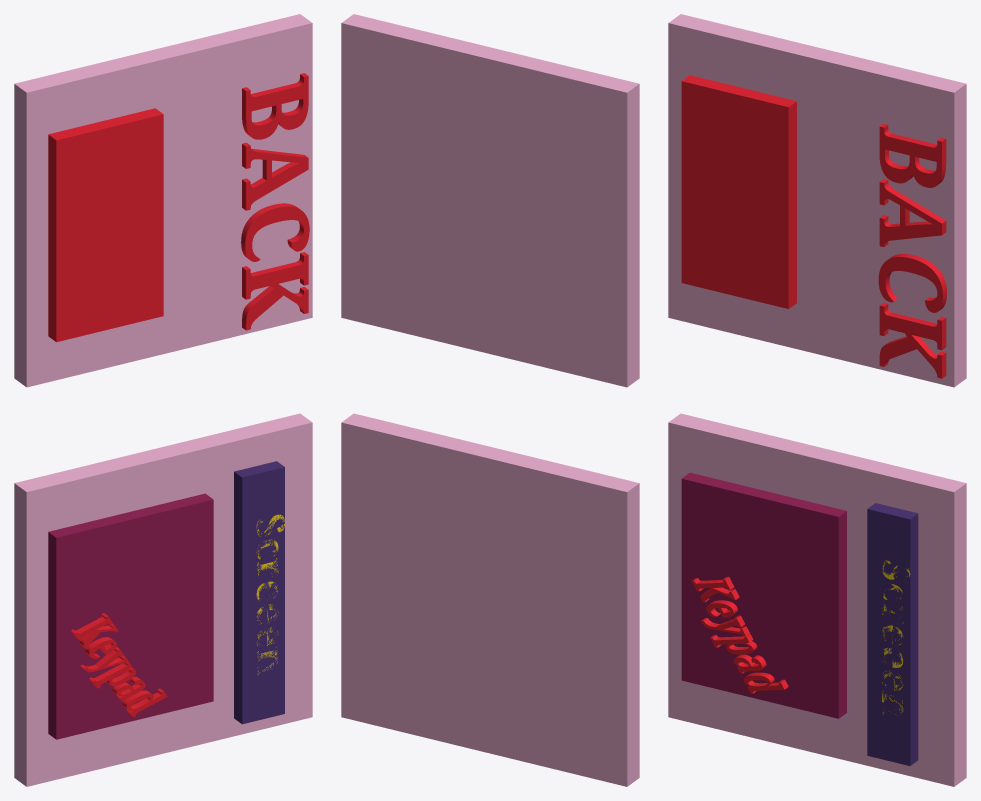
File: tinker.obj
3 renders of one model, left to right at view 1: azimuth 30°, elevation 25°; view 2: azimuth 150°, elevation 25°; view 3: azimuth 330°, elevation 25°, orthographic.
Parts seen in each view (by area): view 1: obj_2, obj_1, obj_3, obj_5, obj_0, obj_6, obj_7, obj_4; view 2: obj_1, obj_2; view 3: obj_2, obj_1, obj_3, obj_5, obj_0, obj_6, obj_7, obj_4.
Boxes of the visible parts, left/top/right/bottom form: obj_2: left=14, top=14, right=312, bottom=387; obj_1: left=14, top=413, right=312, bottom=786; obj_3: left=48, top=493, right=213, bottom=739; obj_5: left=48, top=108, right=163, bottom=342; obj_0: left=234, top=461, right=284, bottom=724; obj_6: left=241, top=73, right=309, bottom=330; obj_7: left=71, top=613, right=167, bottom=717; obj_4: left=256, top=514, right=284, bottom=675; obj_1: left=341, top=413, right=639, bottom=786; obj_2: left=341, top=14, right=639, bottom=387; obj_2: left=668, top=14, right=966, bottom=387; obj_1: left=668, top=413, right=966, bottom=786; obj_3: left=681, top=472, right=846, bottom=718; obj_5: left=681, top=75, right=796, bottom=308; obj_0: left=867, top=503, right=918, bottom=765; obj_6: left=878, top=123, right=946, bottom=378; obj_7: left=692, top=576, right=788, bottom=693; obj_4: left=882, top=560, right=910, bottom=715.
Size of the model in its own units: 40 by 92.84 by 6.
